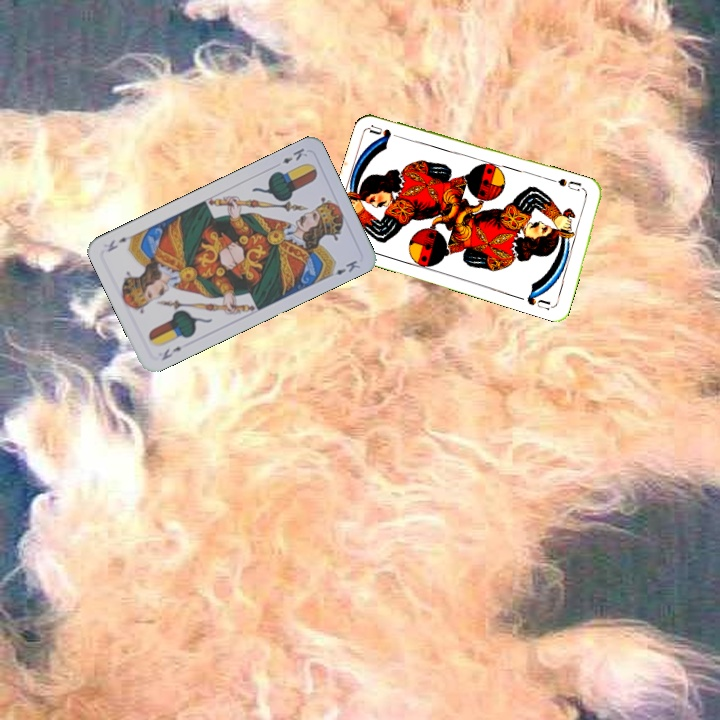EK: (278, 144, 310, 166), (157, 342, 184, 363)
SU: (554, 174, 584, 194)
